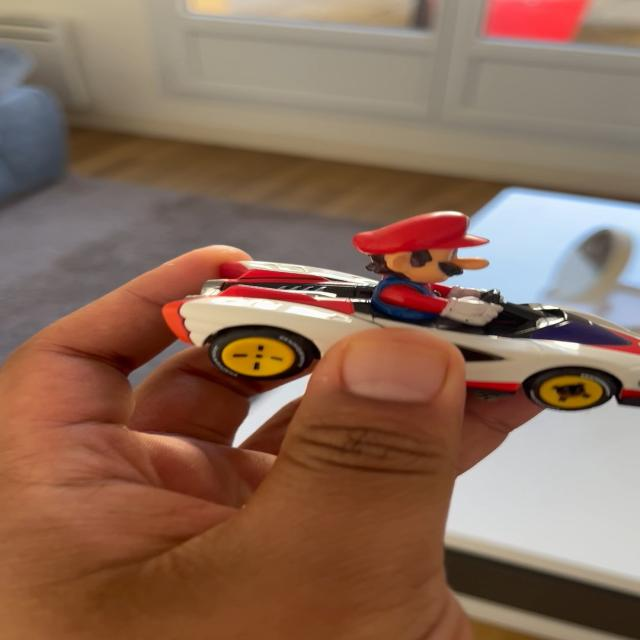mario: (176, 202, 640, 424)
